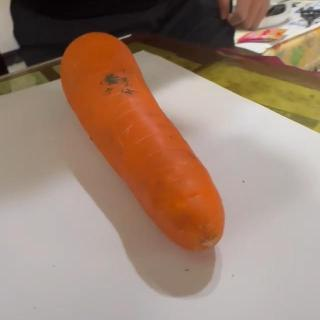carrot: (59, 32, 227, 255)
